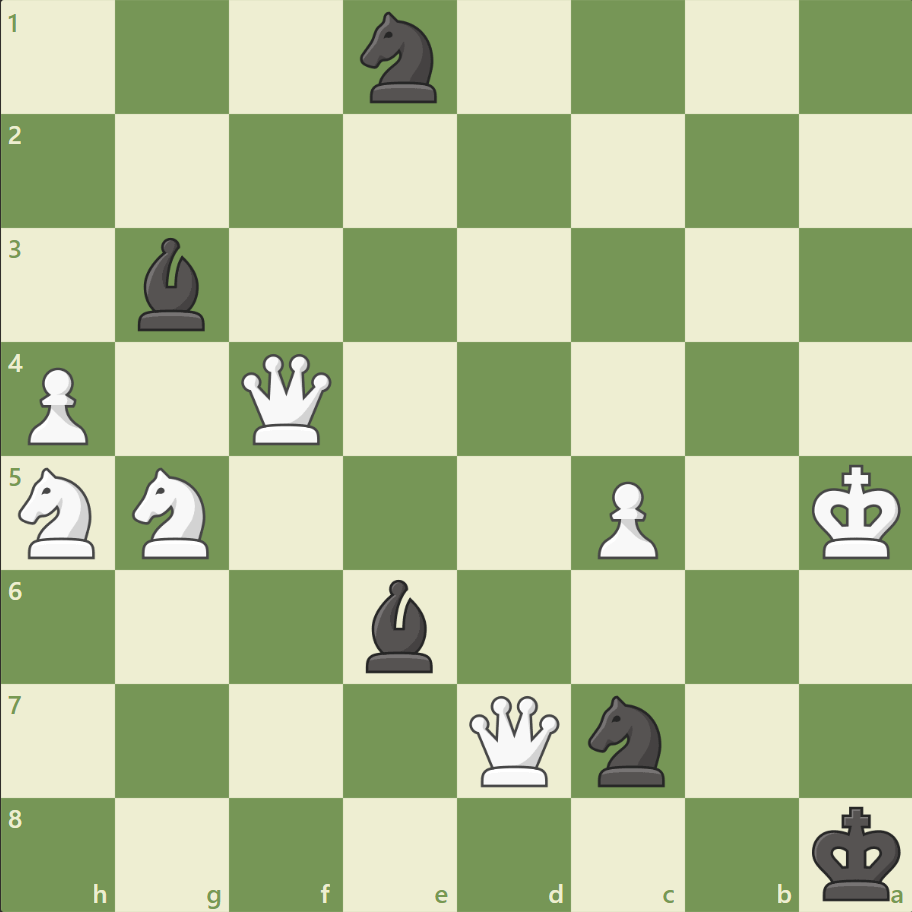K: (806, 458, 906, 566)
N: (124, 461, 222, 564), (11, 461, 108, 564)
P: (20, 359, 95, 450), (588, 473, 662, 564)
Q: (237, 349, 336, 449), (464, 690, 563, 789)
b: (131, 233, 215, 336), (358, 574, 442, 676)
k: (806, 798, 906, 906)
n: (351, 7, 449, 110), (579, 688, 676, 791)
